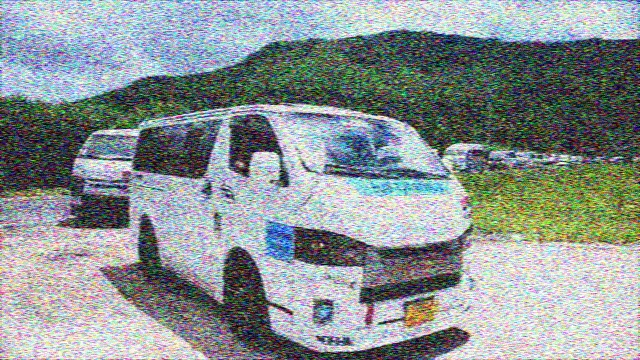van: (120, 99, 479, 358)
